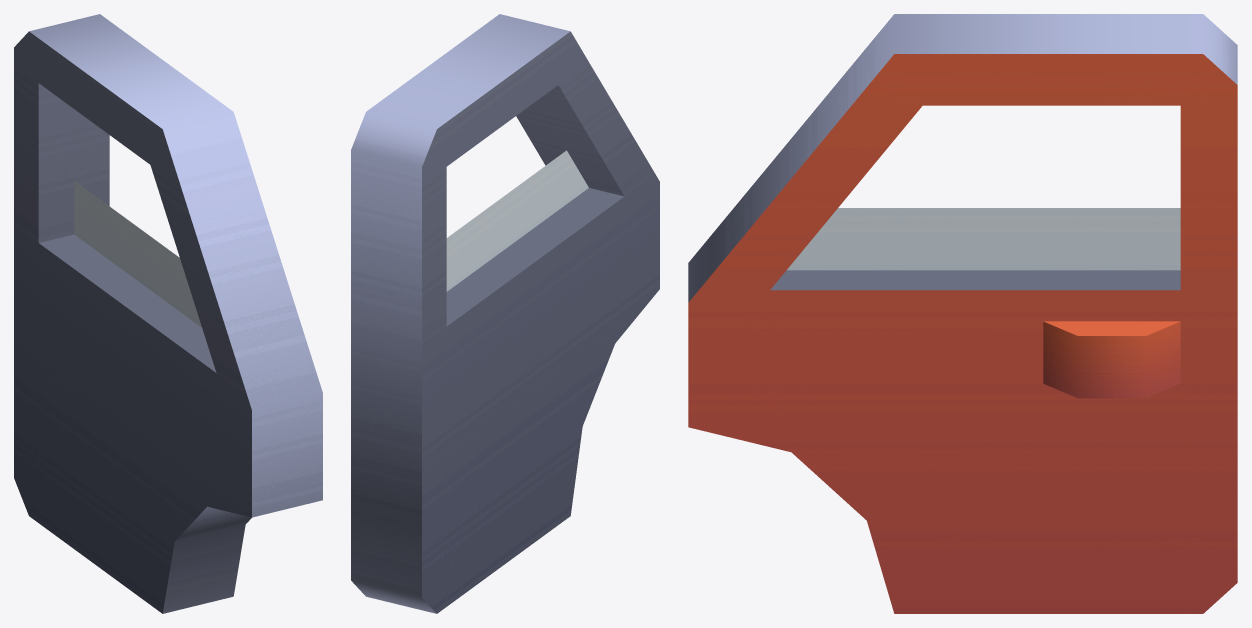
The model's file is debris-door-window.glb.
3 renders of one model, left to right at view 1: azimuth 30°, elevation 25°; view 2: azimuth 150°, elevation 25°; view 3: azimuth 270°, elevation 25°, orthographic. The views are drawn at different scales.
Visible parts, largest first — view 1: debris-door-window; view 2: debris-door-window; view 3: debris-door-window.
Part boxes in pixels (<box>): debris-door-window: <box>14,14,322,613</box>; debris-door-window: <box>351,14,659,613</box>; debris-door-window: <box>688,14,1237,613</box>.
Bounding box in the file's own units: 0.188 × 0.9 × 0.8.
1 material, 1 textured.
